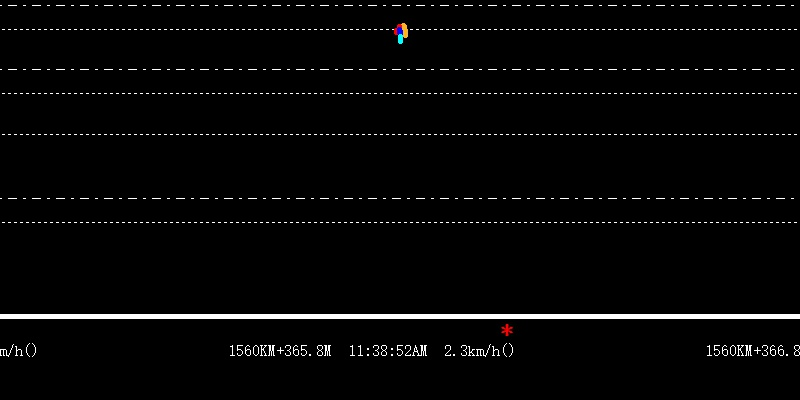face_2: (392, 20, 408, 43)
star: (498, 322, 516, 337)
